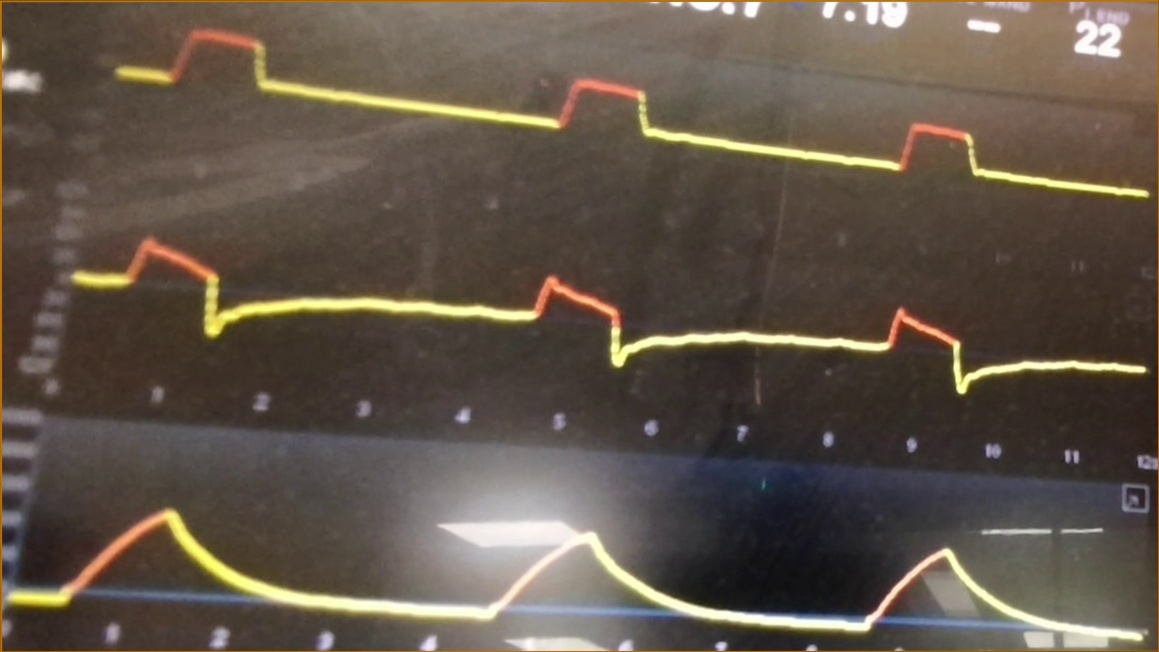Normal Flow: (70, 227, 1145, 395)
Normal Volume: (11, 498, 1142, 645)
